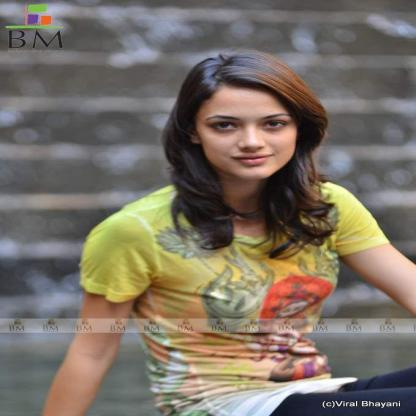long-hair: (148, 179, 344, 214)
